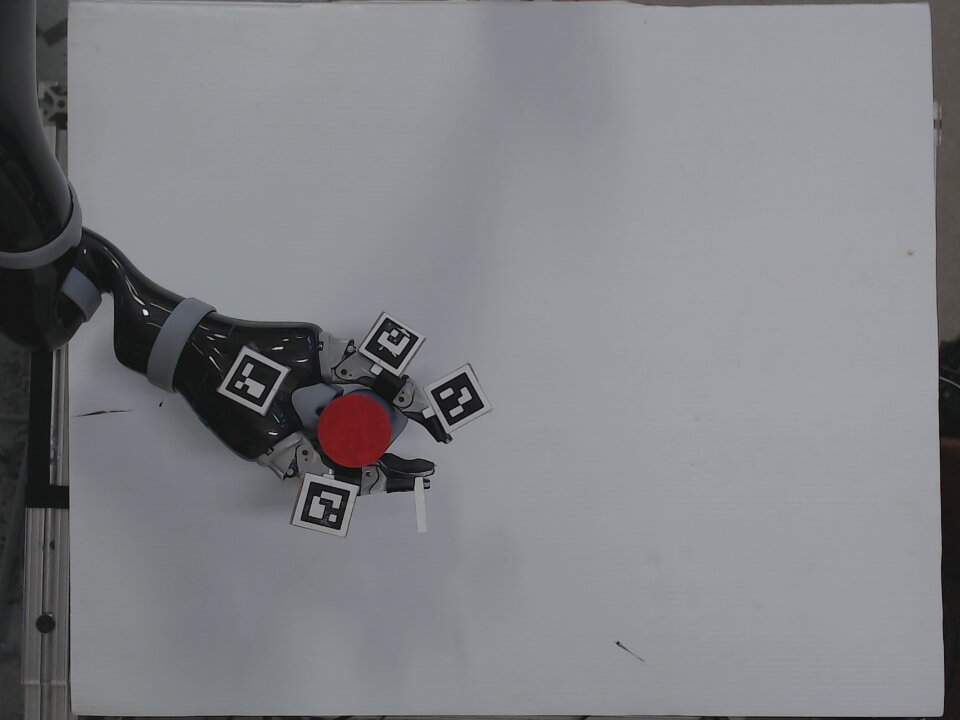cylinder: (315, 388, 411, 471)
